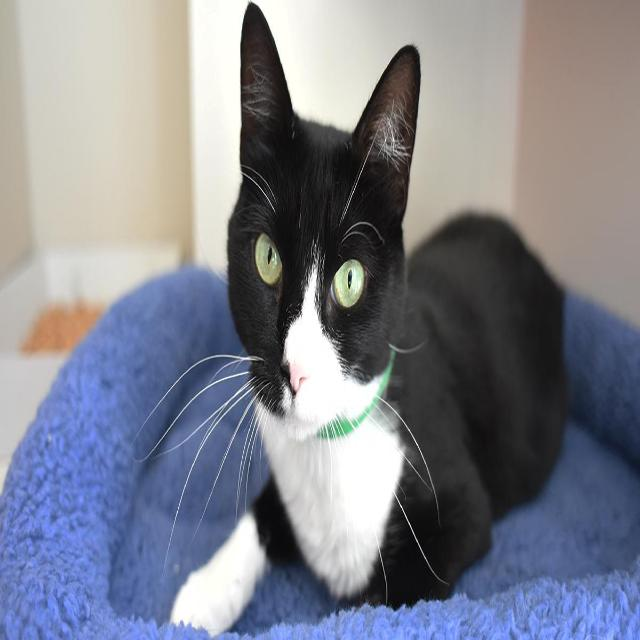Cat: (135, 2, 461, 628)
